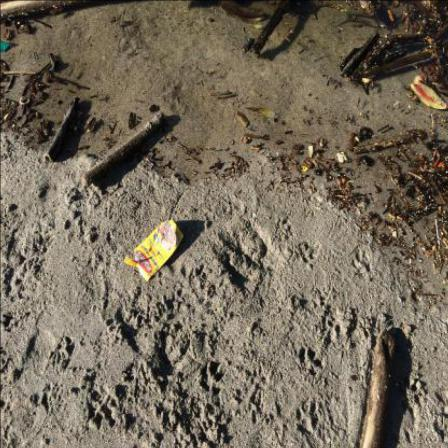Plastic bag - wrapper: (125, 221, 184, 282)
Styrofoam piece: (338, 153, 348, 164)
